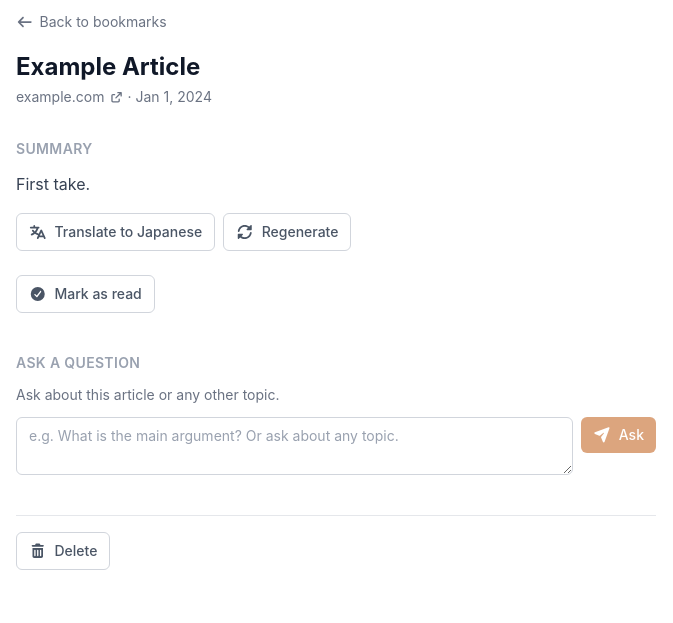
Test: BookmarkPage › keeps the existing summary when regeneration fails
Click the button "Regenerate".
click(287, 232)  # box [223,213,352,251]
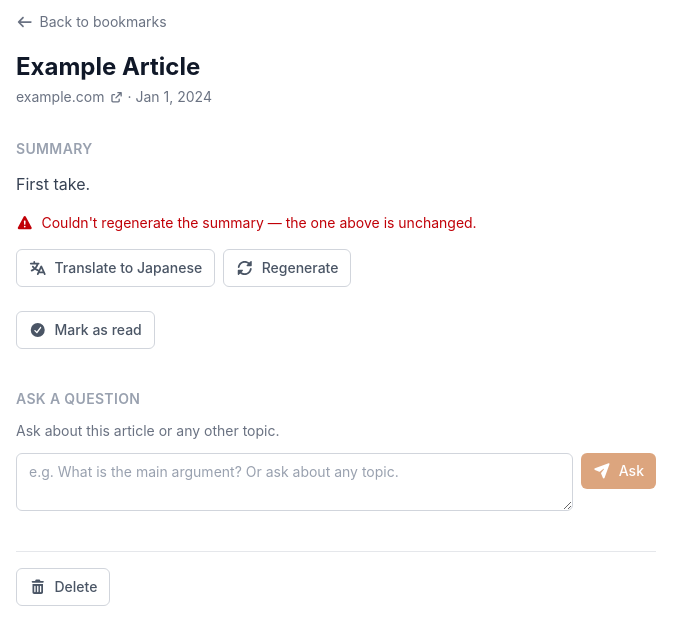
Expected: the text "First take." is shown, [16,171,90,197]
Now the text "Couldn't regenerate the summary" is shown, box [42,214,477,231]
